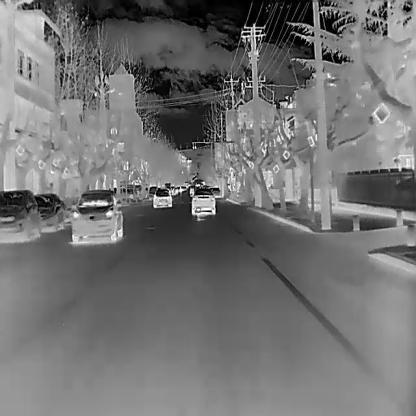car: (69, 188, 123, 243), (0, 189, 40, 242), (31, 192, 65, 230), (191, 189, 215, 216), (152, 187, 172, 208)
